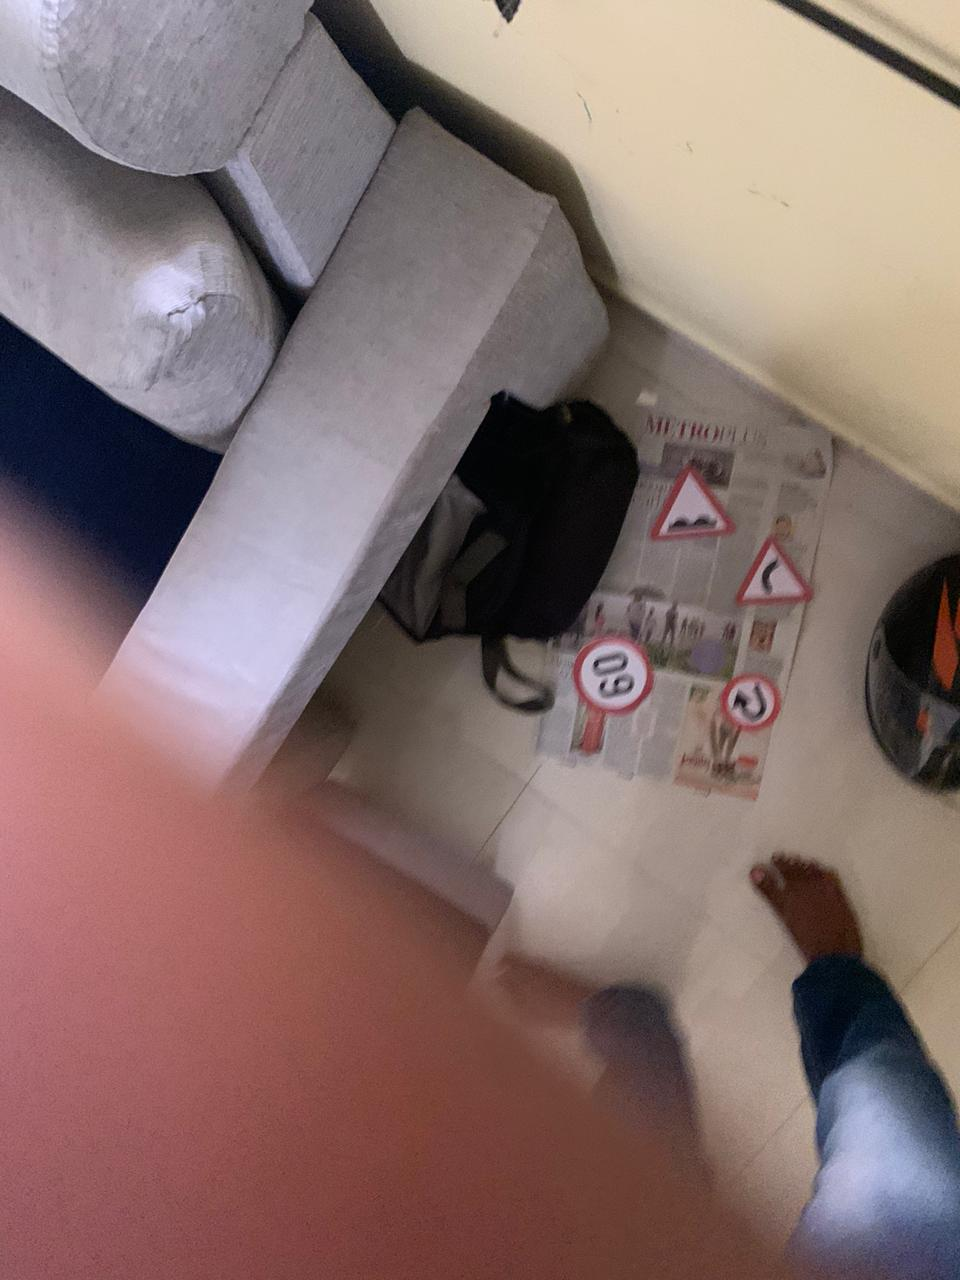LEFT CURVE: (738, 538, 828, 642)
SPEED LIMIT (60 KM/H): (559, 625, 672, 713)
U-TURN: (714, 664, 790, 752)
UNEVEN ROAD: (644, 454, 736, 558)
